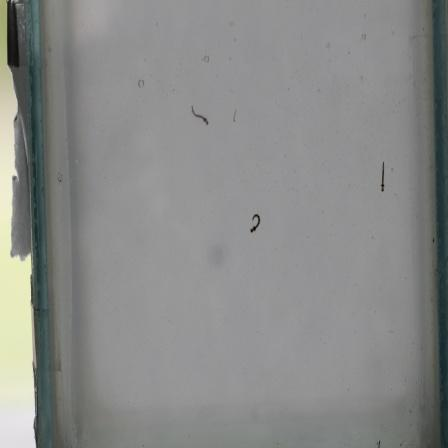Jentik-Nyamuk: (188, 102, 212, 127), (247, 210, 264, 238), (376, 158, 388, 195)
